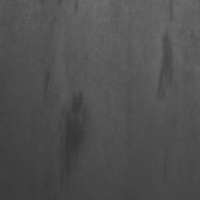inclusion: (53, 85, 96, 194), (151, 26, 181, 111), (35, 63, 57, 106), (159, 149, 176, 184)
